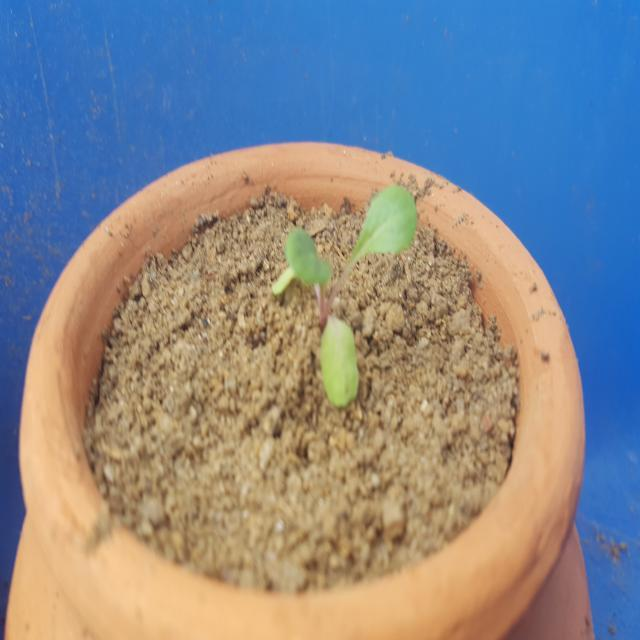Lettuce-Not-Ready-to-Harvest: (264, 182, 424, 413)
